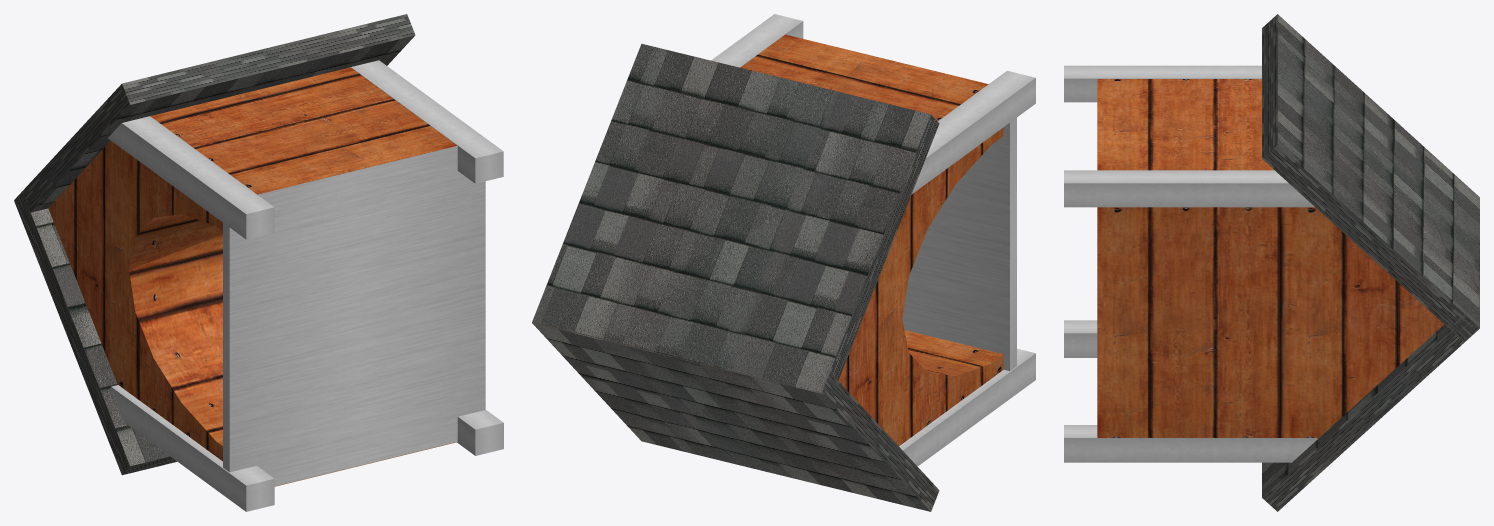
File: DogHouse.fbx
3 views of the same model, side by side, from view 1: azimuth 30°, elevation 25°; view 2: azimuth 150°, elevation 25°; view 3: azimuth 270°, elevation 25° (orthographic). The views are drawn at different scales.
Parts seen in each view (by area): view 1: Box004, Box001, Box002, Box003, Box007, Box006, Box009, Box008; view 2: Box002, Box003, Box001, Box004, Box007, Box006, Box009; view 3: Box001, Box002, Box009, Box003, Box008, Box007, Box006.
Part boxes in pixels (left/top/right/bottom): Box004: left=223, top=146, right=485, bottom=486; Box001: left=48, top=67, right=457, bottom=486; Box002: left=14, top=14, right=415, bottom=212; Box003: left=14, top=192, right=177, bottom=475; Box007: left=108, top=116, right=274, bottom=239; Box006: left=111, top=385, right=274, bottom=511; Box009: left=351, top=60, right=503, bottom=183; Box008: left=457, top=410, right=503, bottom=455; Box002: left=532, top=43, right=939, bottom=400; Box003: left=532, top=322, right=939, bottom=511; Box001: left=740, top=34, right=1003, bottom=445; Box004: left=902, top=117, right=1016, bottom=370; Box007: left=912, top=71, right=1035, bottom=193; Box006: left=899, top=348, right=1035, bottom=466; Box009: left=711, top=14, right=803, bottom=67; Box001: left=1097, top=79, right=1444, bottom=438; Box002: left=1262, top=14, right=1479, bottom=341; Box009: left=1064, top=170, right=1314, bottom=207; Box003: left=1262, top=314, right=1479, bottom=511; Box008: left=1064, top=425, right=1317, bottom=462; Box007: left=1064, top=65, right=1261, bottom=102; Box006: left=1064, top=320, right=1097, bottom=357.
Size of the model in its own units: 40.02 by 52.52 by 53.87.
Materials: 3 (3 with a texture image).
